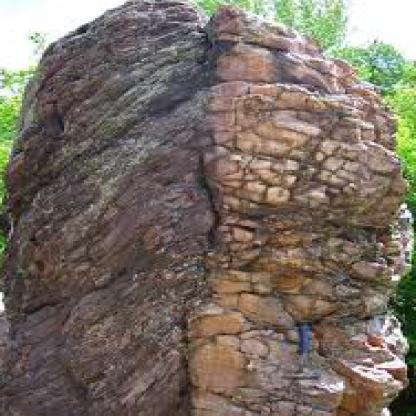Metamorphic_Quartize: (212, 0, 408, 415), (6, 0, 198, 415)
